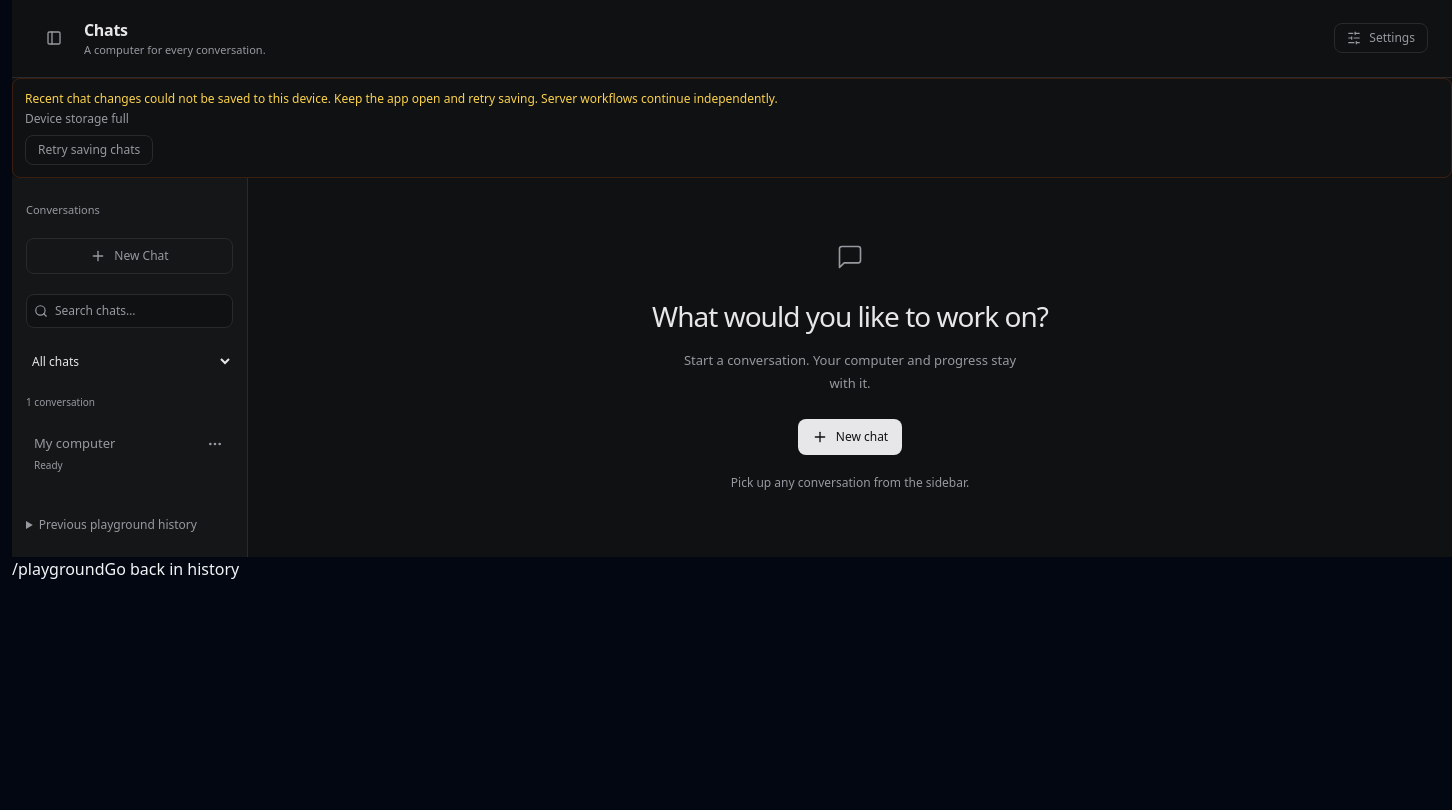
Test: durable chat workspace integration › makes failed local saves visible and lets the user retry without restarting work
The width and height of the screenshot is (1452, 810).
Check: the text "Recent chat changes could not be saved" is shown, box left=25, top=90, right=778, bottom=106
Step 1. Click the button "Retry saving chats" → (89, 150), box left=25, top=134, right=153, bottom=164
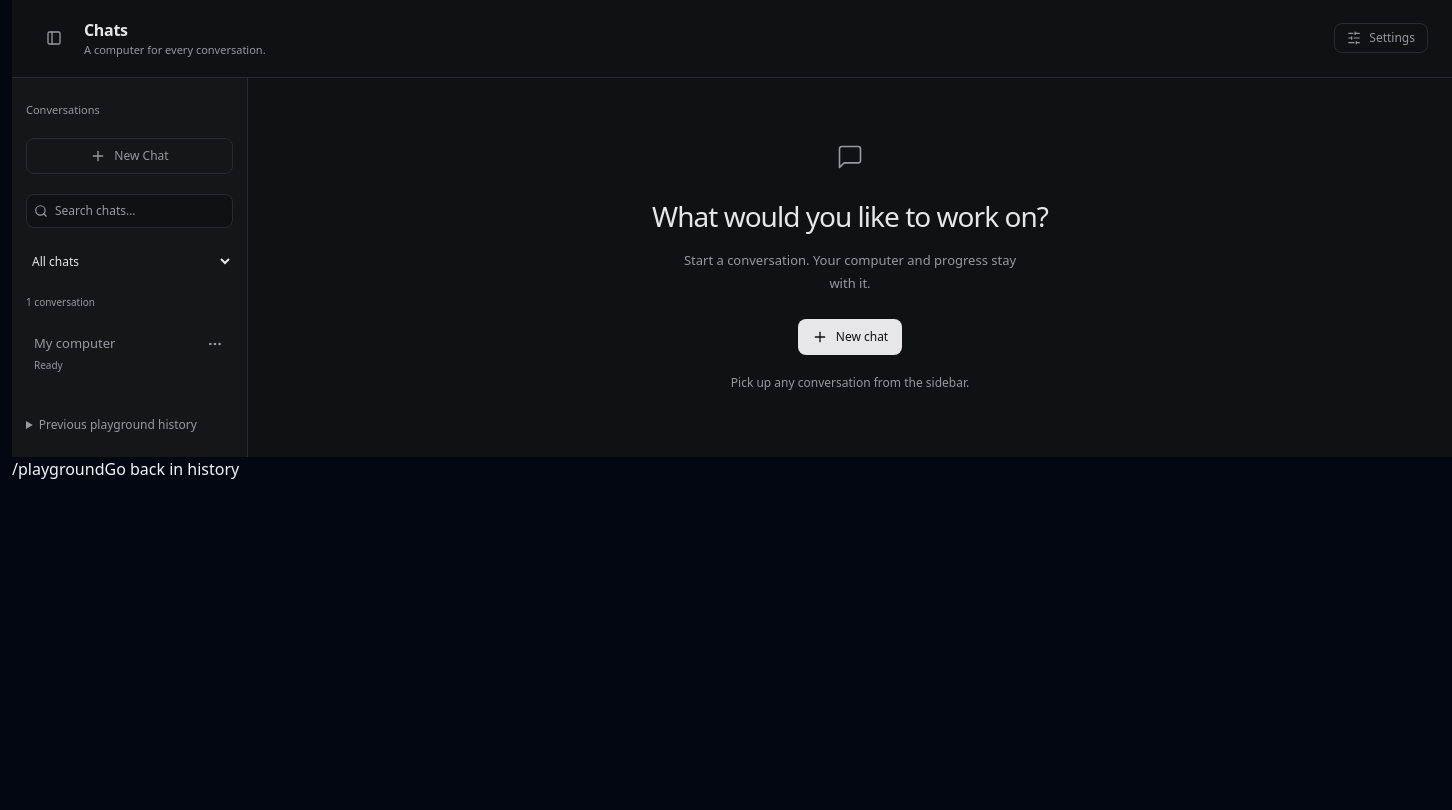
Check: the text "Recent chat changes could not be saved" is gone
